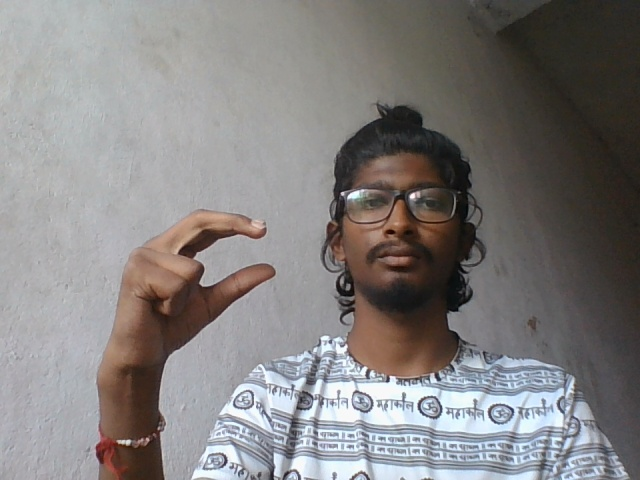Stop: (92, 205, 281, 385)
